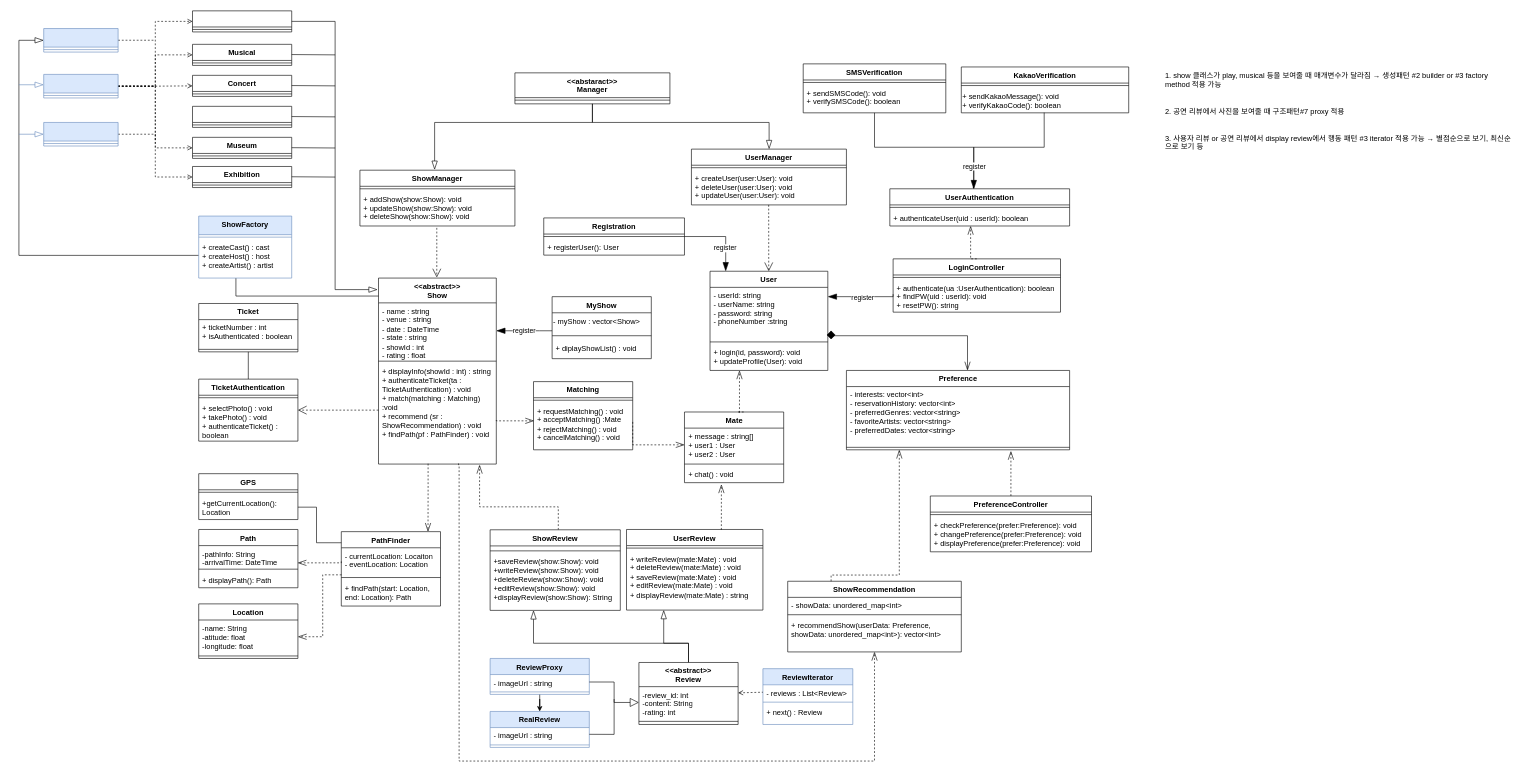
Some shapes in this 1522 by 781 pixel diagram are drawn without their labels. Each missing label, with the centre of its shape:
ArtistFactory: the point at 80,134
CastFactory: the point at 80,40
HostFactory: the point at 80,86
Opera: the point at 242,116
Play: the point at 242,21
